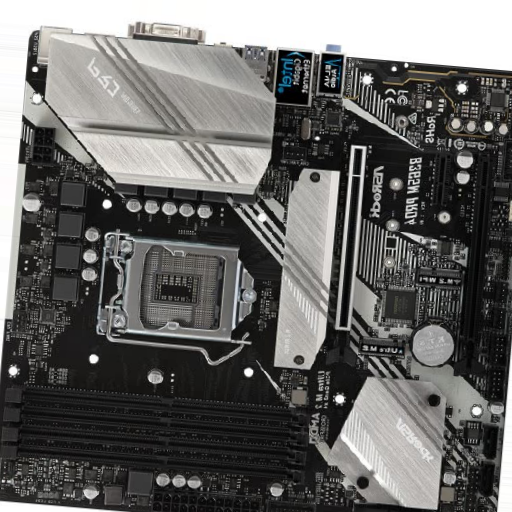CPU: (97, 228, 255, 363)
GPU: (453, 151, 495, 375), (333, 144, 369, 333)
MOTHERBOARD: (3, 20, 511, 512)
RAM: (16, 388, 311, 484)
SSD: (357, 338, 406, 361)
